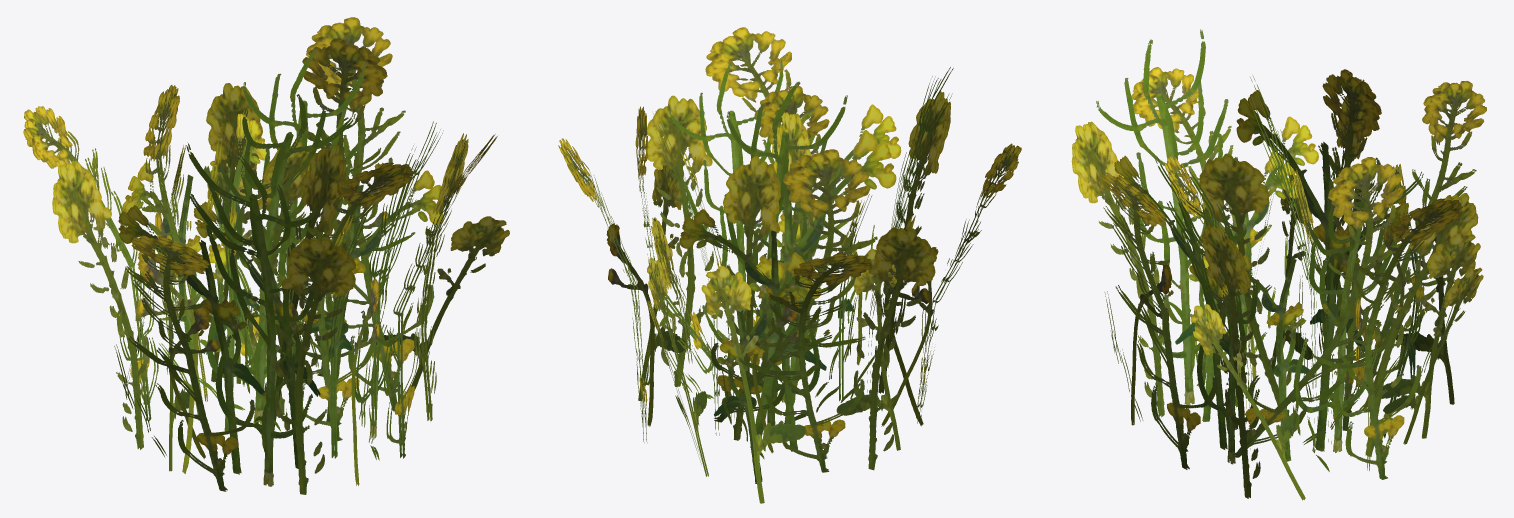
Rendered from NaturePlant07_1.FBX.
The picture shows the model from 3 angles, left to right: view 1: azimuth 30°, elevation 25°; view 2: azimuth 150°, elevation 25°; view 3: azimuth 270°, elevation 25°; orthographic projection. The views are drawn at different scales.
Visible parts, largest first — view 1: NaturePlant07_1; view 2: NaturePlant07_1; view 3: NaturePlant07_1.
Part boxes in pixels (<box>): NaturePlant07_1: <box>23,17,509,494</box>; NaturePlant07_1: <box>558,27,1021,503</box>; NaturePlant07_1: <box>1071,29,1486,500</box>.
Size of what is drawn, in the model's own units: 1.2 by 1.12 by 1.21.
